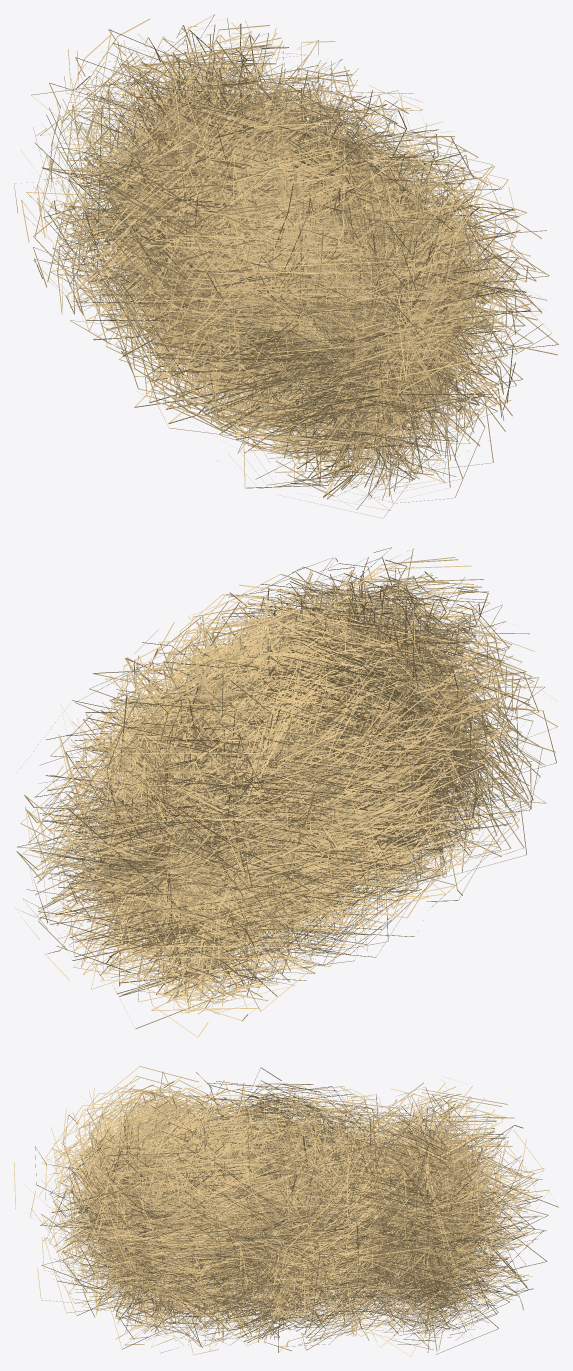
Rendered from paglia.fbx.
The picture shows the model from 3 angles, top to bottom: view 1: azimuth 30°, elevation 25°; view 2: azimuth 150°, elevation 25°; view 3: azimuth 270°, elevation 25°; orthographic projection. The views are drawn at different scales.
Parts seen in each view (by area): view 1: Hay; view 2: Hay; view 3: Hay.
Part boxes in pixels (x1,y1,x2,y2): Hay: (14,14,558,518); Hay: (15,547,557,1037); Hay: (14,1066,558,1356).
Size of the model in its own units: 321 by 264 by 499.
